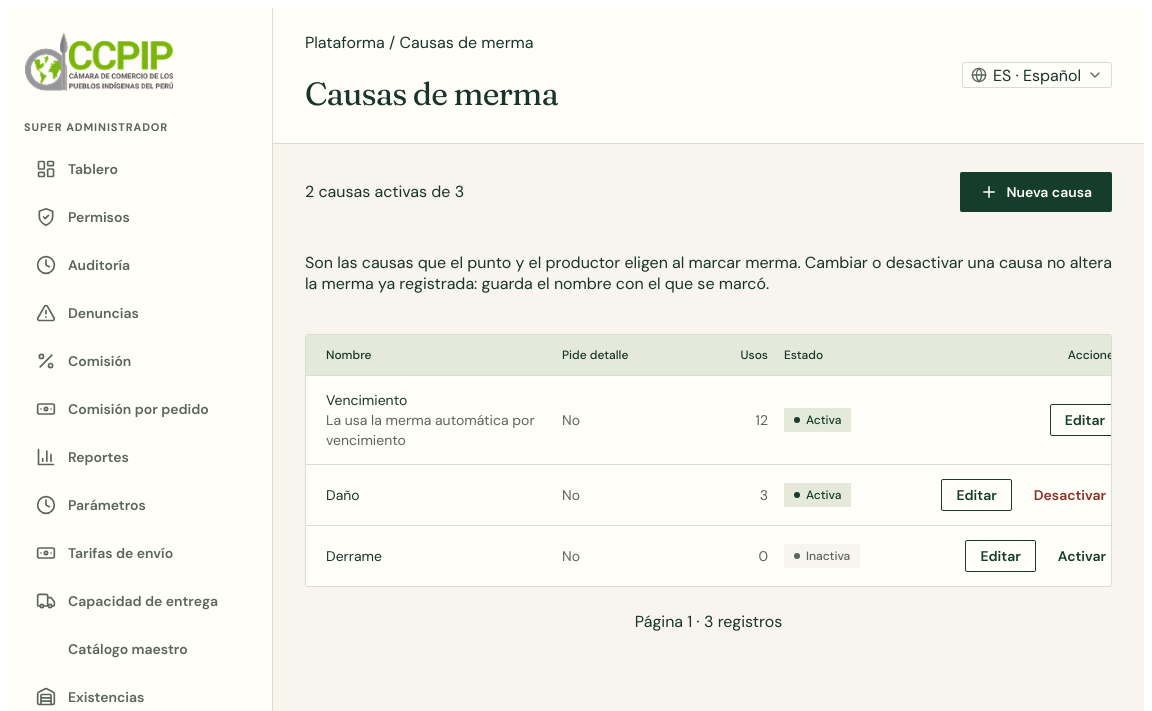
Test: Causas de merma del superadministrador (CCPIP-77, 298, 299, 300) › desactiva una causa con confirmación y conserva su historial
Click the button with aria-label "Desactivar Daño" at (1070, 495), box x1=1020 y1=479 x2=1120 y2=511
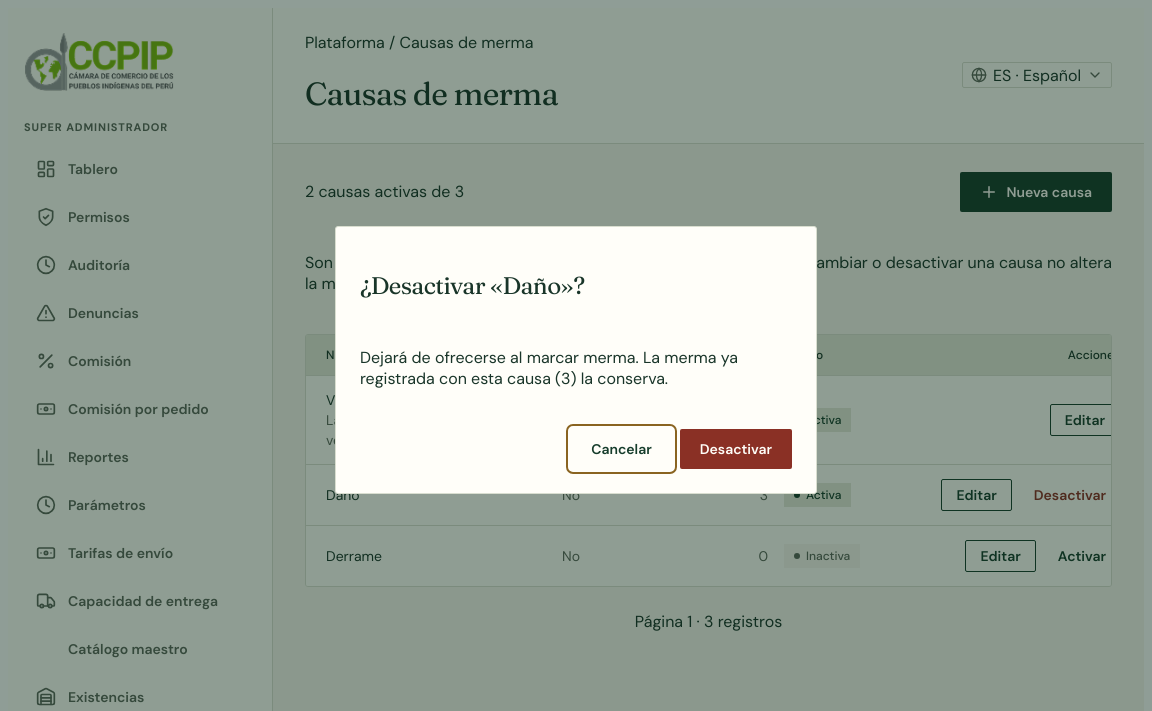
Expected: the text "La merma ya registrada con esta causa (3) la conserva" is shown, x1=360 y1=347 x2=738 y2=389
Click the button "Desactivar" at (736, 449), box x1=680 y1=429 x2=792 y2=469
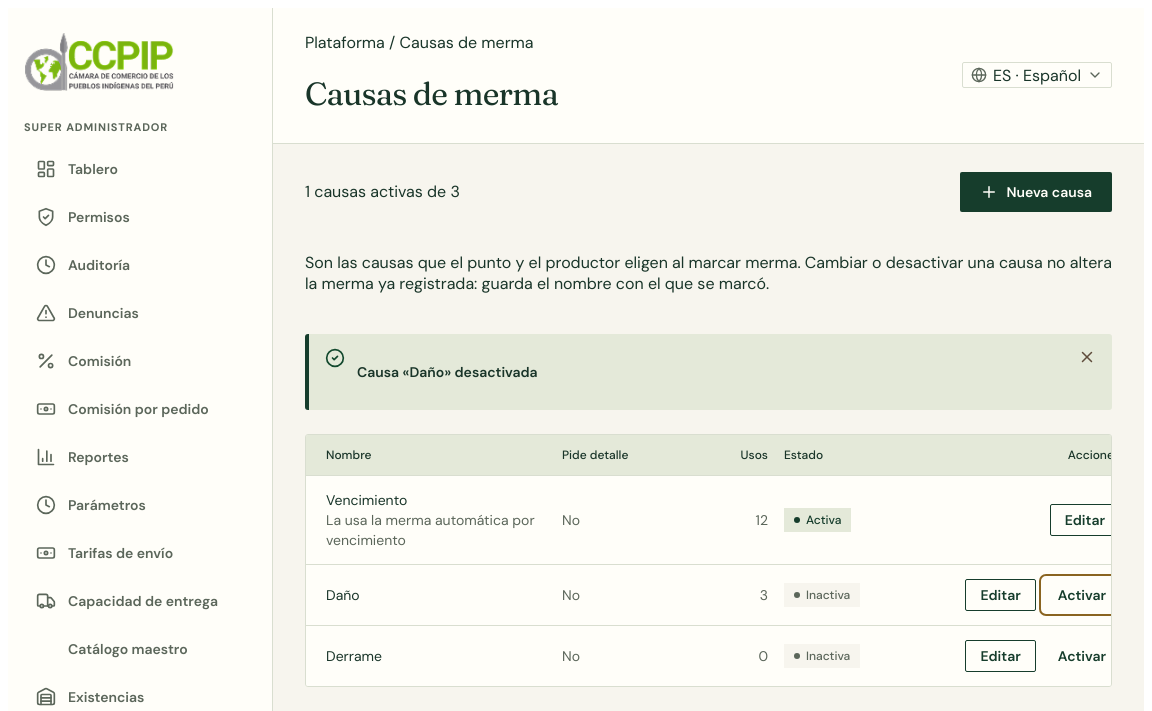
Expected: the button with aria-label "Activar Daño" is shown, x1=1044 y1=579 x2=1112 y2=611
Expected: the text "Causa «Daño» desactivada" is shown, x1=357 y1=363 x2=538 y2=381
